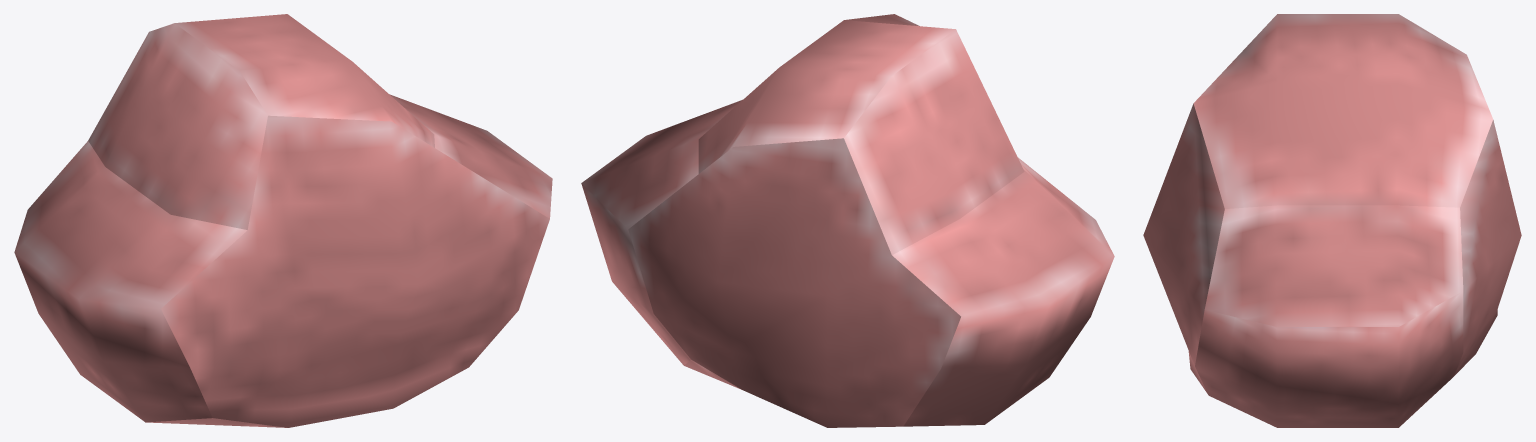
Rendered from split_poling4.fbx.
The picture shows the model from 3 angles, left to right: view 1: azimuth 30°, elevation 25°; view 2: azimuth 150°, elevation 25°; view 3: azimuth 270°, elevation 25°; orthographic projection. The views are drawn at different scales.
Visible parts, largest first — view 1: pCube11; view 2: pCube11; view 3: pCube11.
Part boxes in pixels (x1,y1,x2,y2): pCube11: (14,14,552,427); pCube11: (581,14,1114,427); pCube11: (1143,14,1521,427).
Bounding box in the file's own units: 139 × 98.68 × 104.
